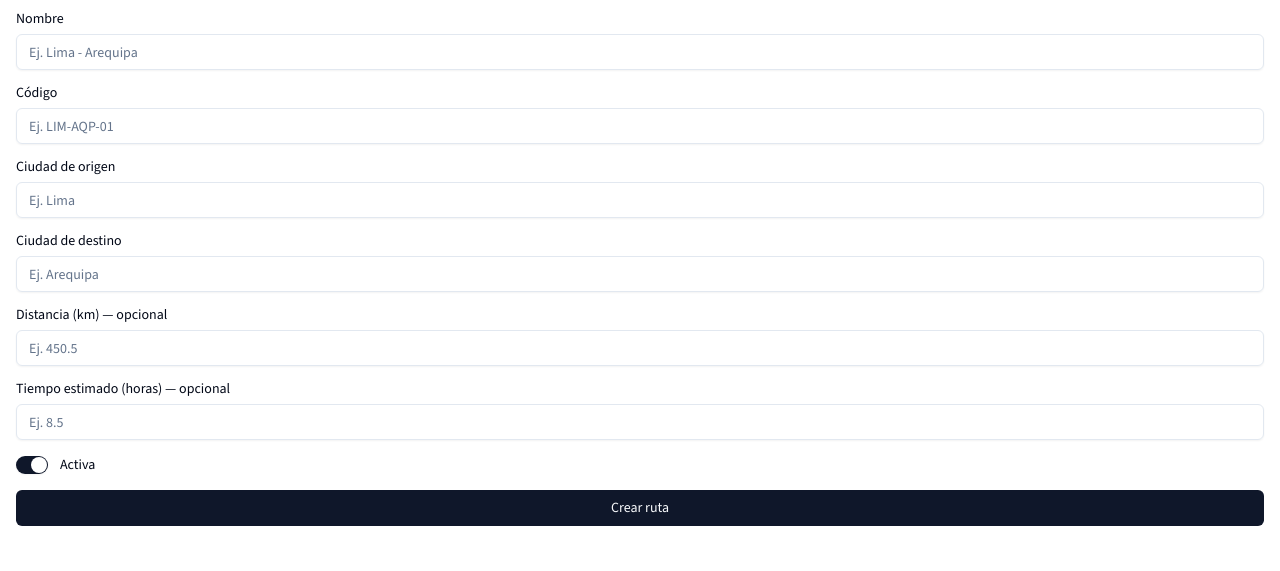
Test: RouteForm — validation › shows error when name is empty on submit
Type "BOG-01" into the field with placeholder "Ej. LIM-AQP-01" at (640, 126), box [16, 108, 1264, 144]
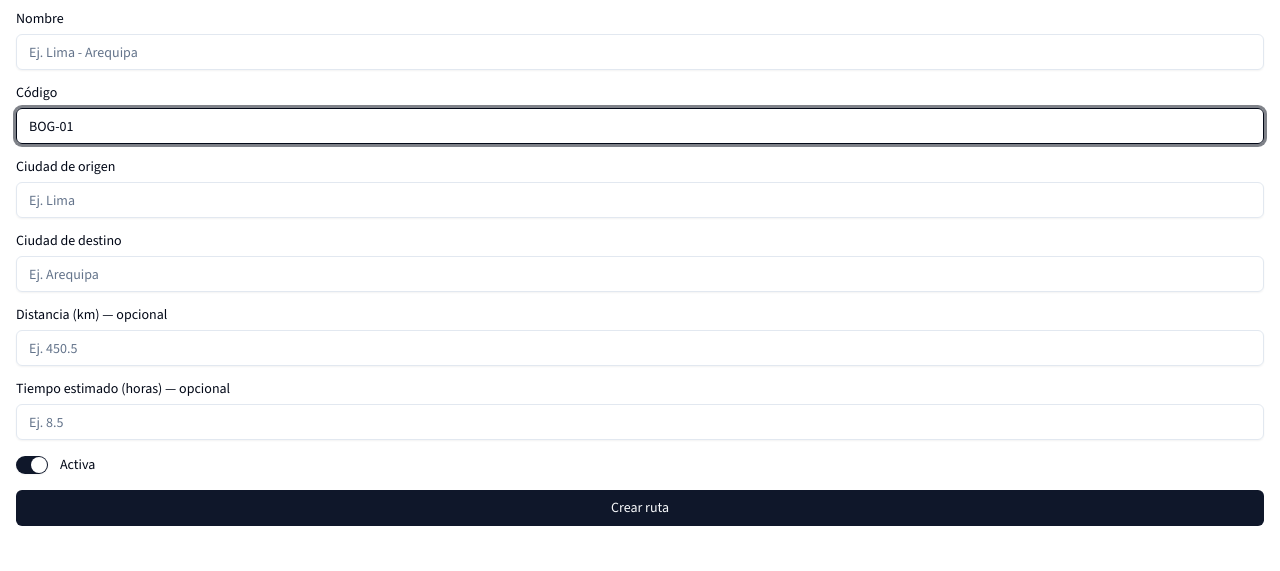
Type "Bogotá" into the field with placeholder "Ej. Lima" at (640, 200), box [16, 182, 1264, 218]
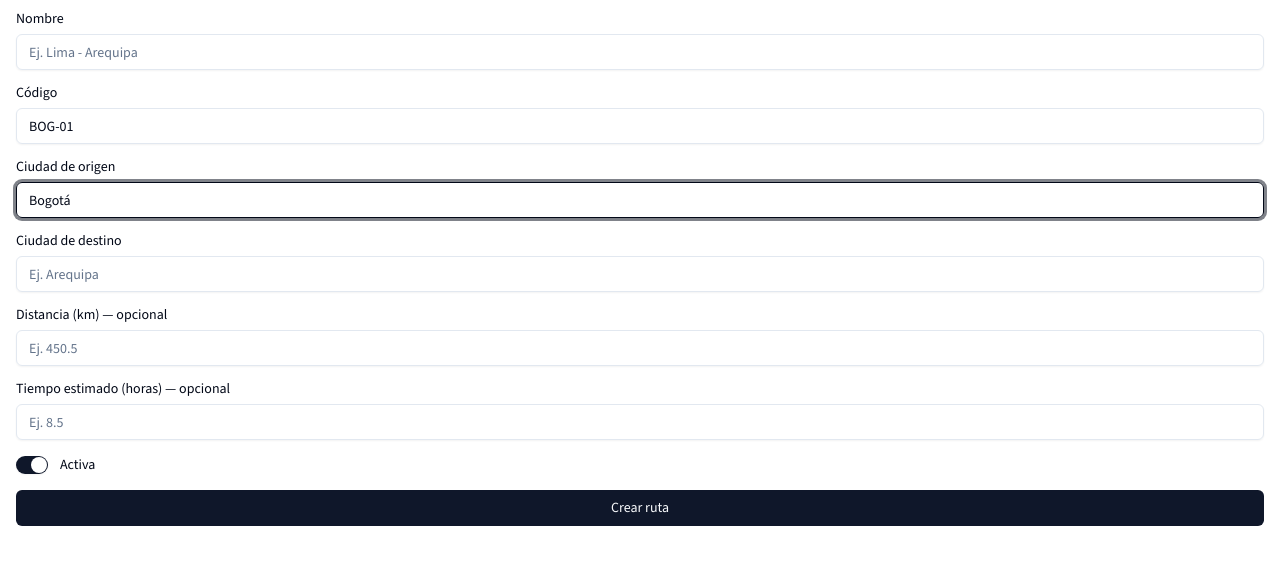
Type "Medellín" into the field with placeholder "Ej. Arequipa" at (640, 274), box [16, 256, 1264, 292]
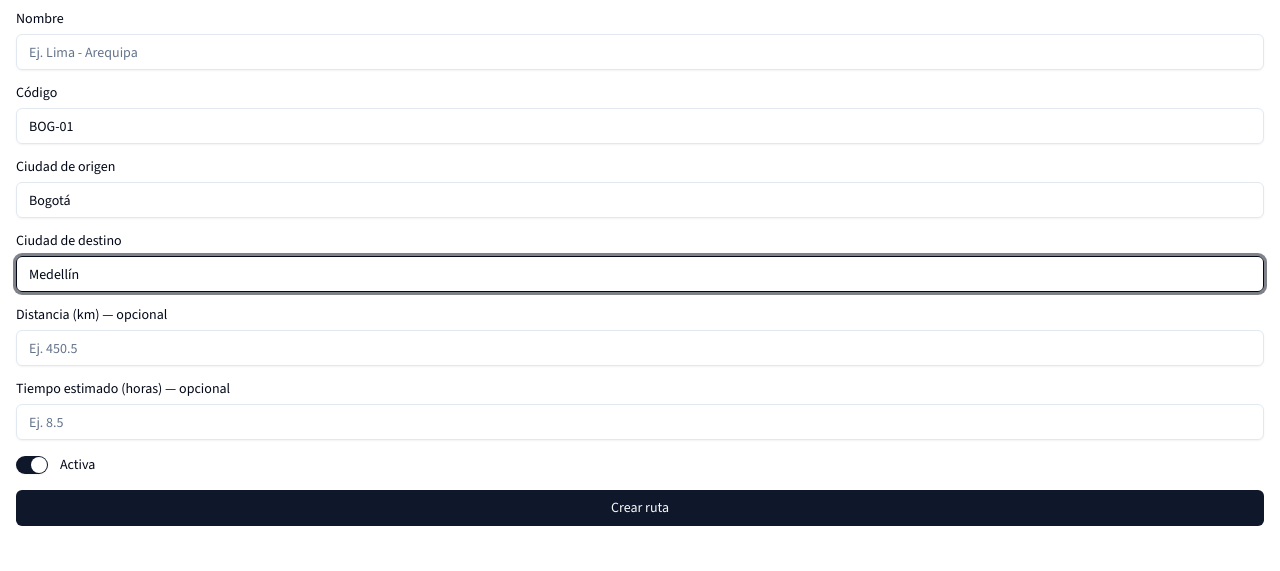
Click the button "Crear ruta" at (640, 508), box [16, 490, 1264, 526]
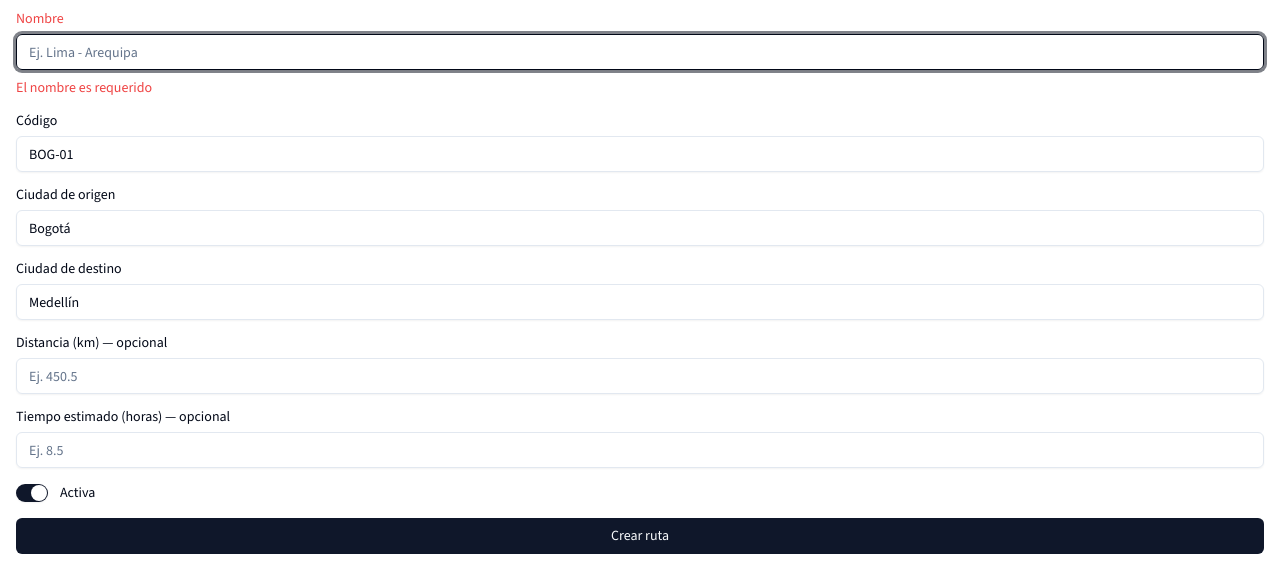
Result: the text "El nombre es requerido" is shown at [16, 78, 152, 97]
